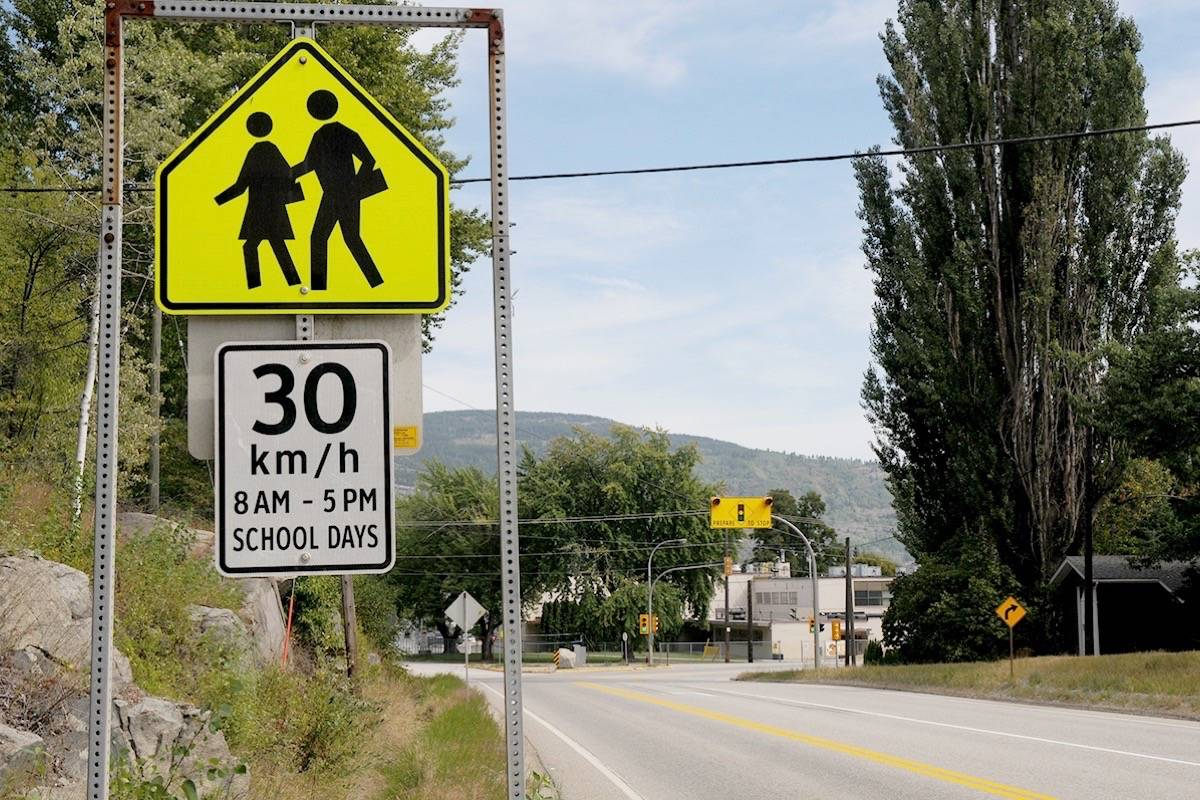slow: (148, 38, 455, 318)
